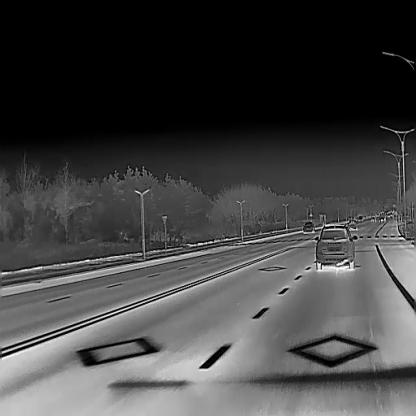car: (314, 223, 357, 269), (302, 221, 314, 232), (347, 219, 358, 229), (370, 215, 374, 221), (380, 217, 384, 221)
